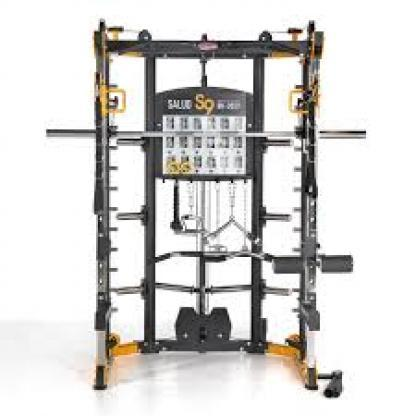smith machine: (45, 18, 368, 399)
